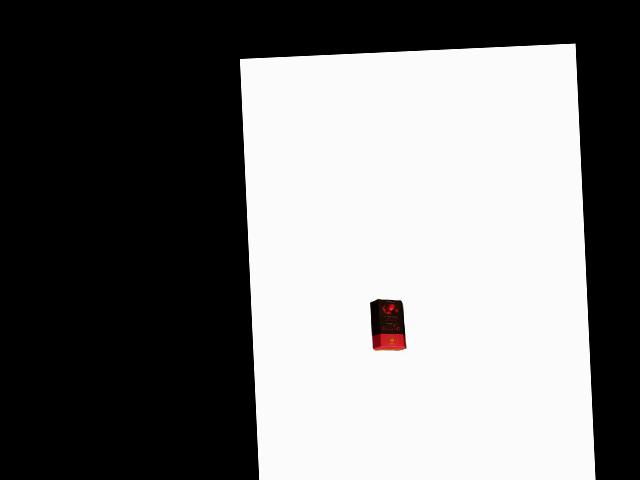chocolate: (368, 293, 406, 353)
